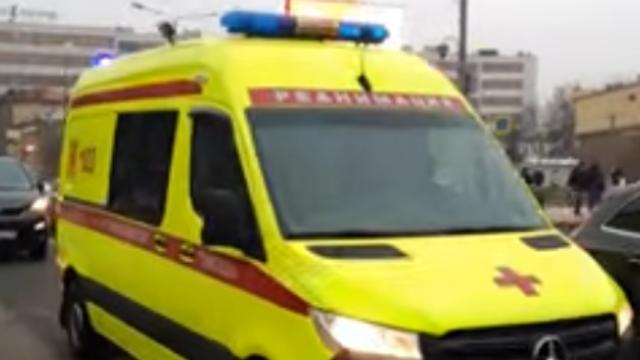intensive care unit: (62, 11, 638, 360)
non emergency car: (3, 152, 50, 264)
